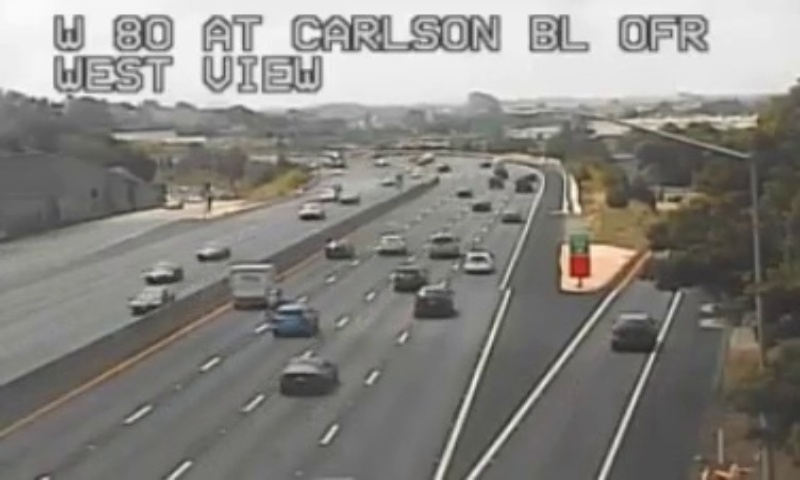car: (278, 359, 336, 396), (610, 313, 657, 351), (268, 303, 314, 335), (412, 285, 453, 313), (391, 265, 425, 292), (461, 250, 493, 272), (427, 234, 457, 256), (324, 240, 349, 258)
small-truck: (231, 263, 274, 305)
